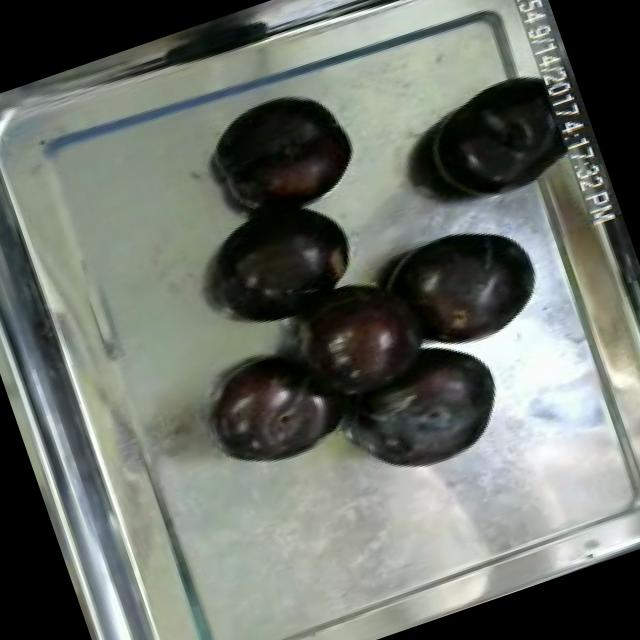Fruit: (329, 324, 521, 492), (375, 200, 560, 366), (408, 64, 584, 218), (203, 74, 368, 228), (204, 175, 366, 328), (290, 259, 436, 412), (198, 336, 346, 479)
